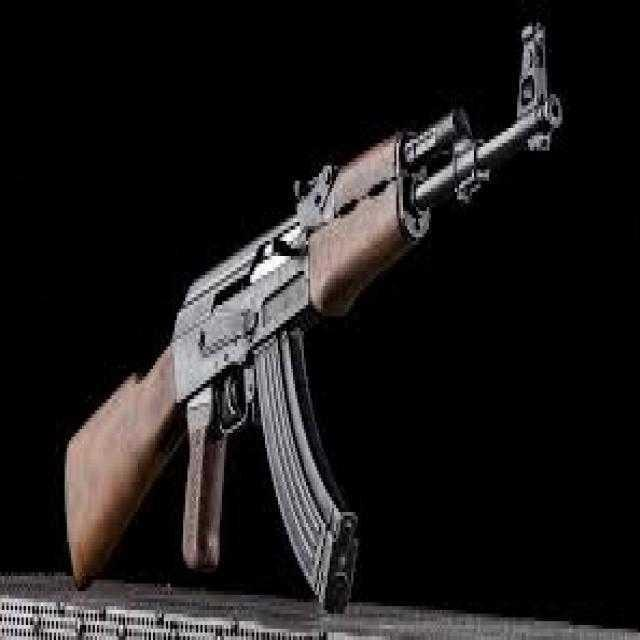ak: (58, 26, 567, 620)
